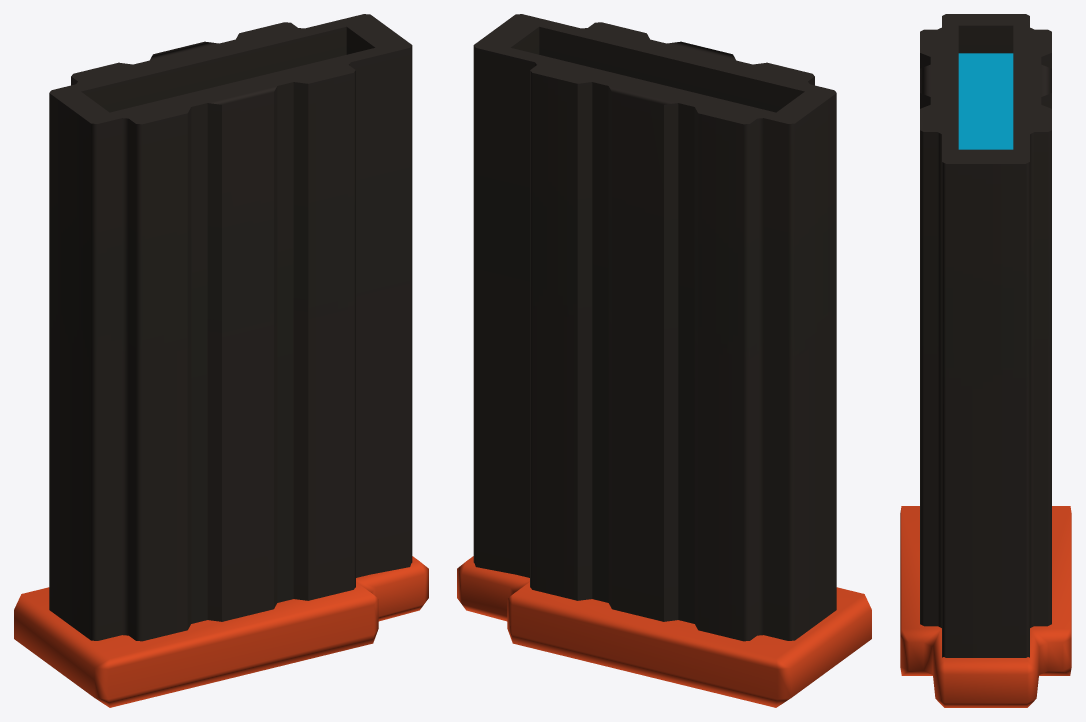
File: AR6_MagazineExtended.fbx
3 views of the same model, side by side, from view 1: azimuth 30°, elevation 25°; view 2: azimuth 150°, elevation 25°; view 3: azimuth 270°, elevation 25° (orthographic). The views are drawn at different scales.
Visible parts, largest first — view 1: AR6_MagazineExtended; view 2: AR6_MagazineExtended; view 3: AR6_MagazineExtended.
Part boxes in pixels (x1=…): AR6_MagazineExtended: x1=14, y1=14, x2=428, y2=707; AR6_MagazineExtended: x1=457, y1=14, x2=871, y2=707; AR6_MagazineExtended: x1=900, y1=14, x2=1071, y2=707.
Bounding box in the file's own units: 8.05 × 12.34 × 3.55.
